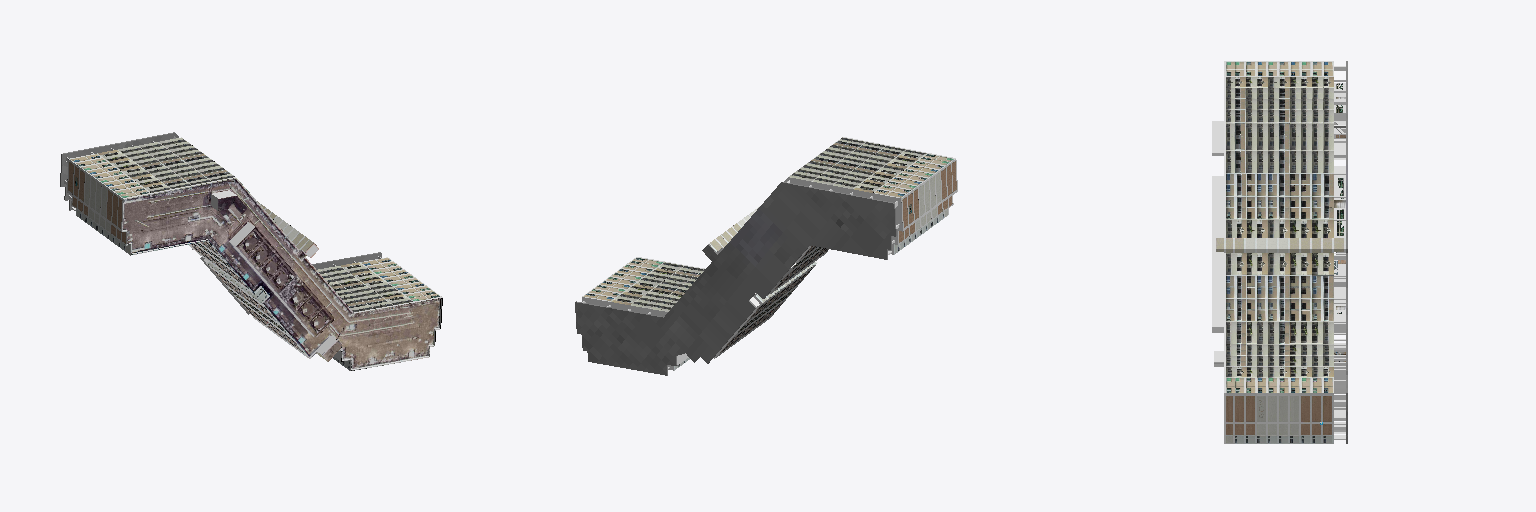
3 views of the same model, side by side, from view 1: azimuth 30°, elevation 25°; view 2: azimuth 150°, elevation 25°; view 3: azimuth 270°, elevation 25° (orthographic).
Visible parts, largest first — view 1: polygon.828; view 2: polygon.828; view 3: polygon.828.
Boxes of the visible parts, <box> form: polygon.828: <box>60,132,442,370</box>; polygon.828: <box>575,137,957,375</box>; polygon.828: <box>1212,61,1347,443</box>.
Bounding box in the file's own units: 96.45 × 66.23 × 35.2.
Materials: 1 (1 with a texture image).